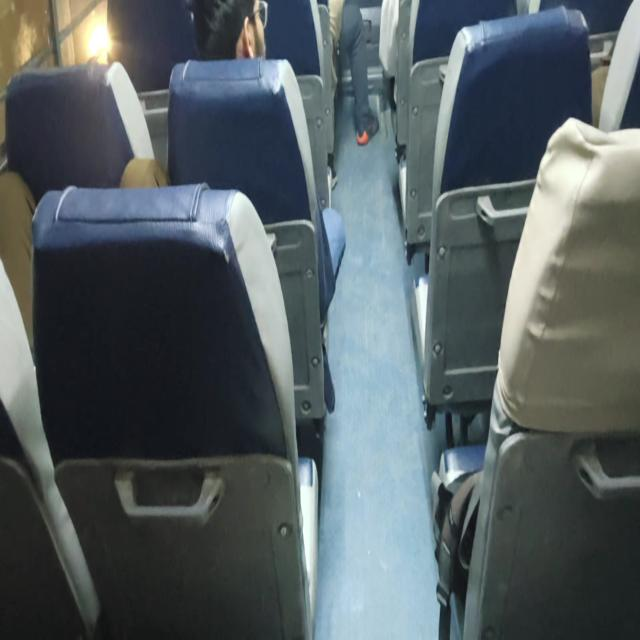person: (119, 0, 346, 412), (190, 0, 338, 196), (326, 0, 380, 146), (190, 0, 268, 61)
